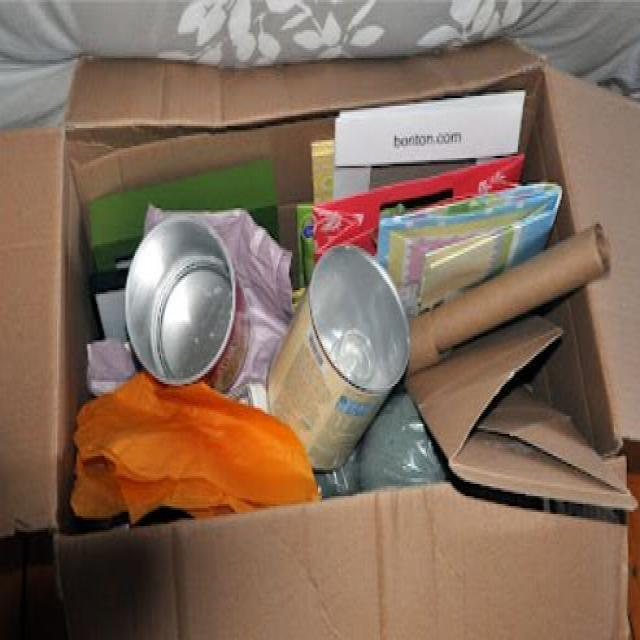metal: (265, 244, 407, 480), (134, 231, 247, 394)
paper: (408, 104, 606, 516)
